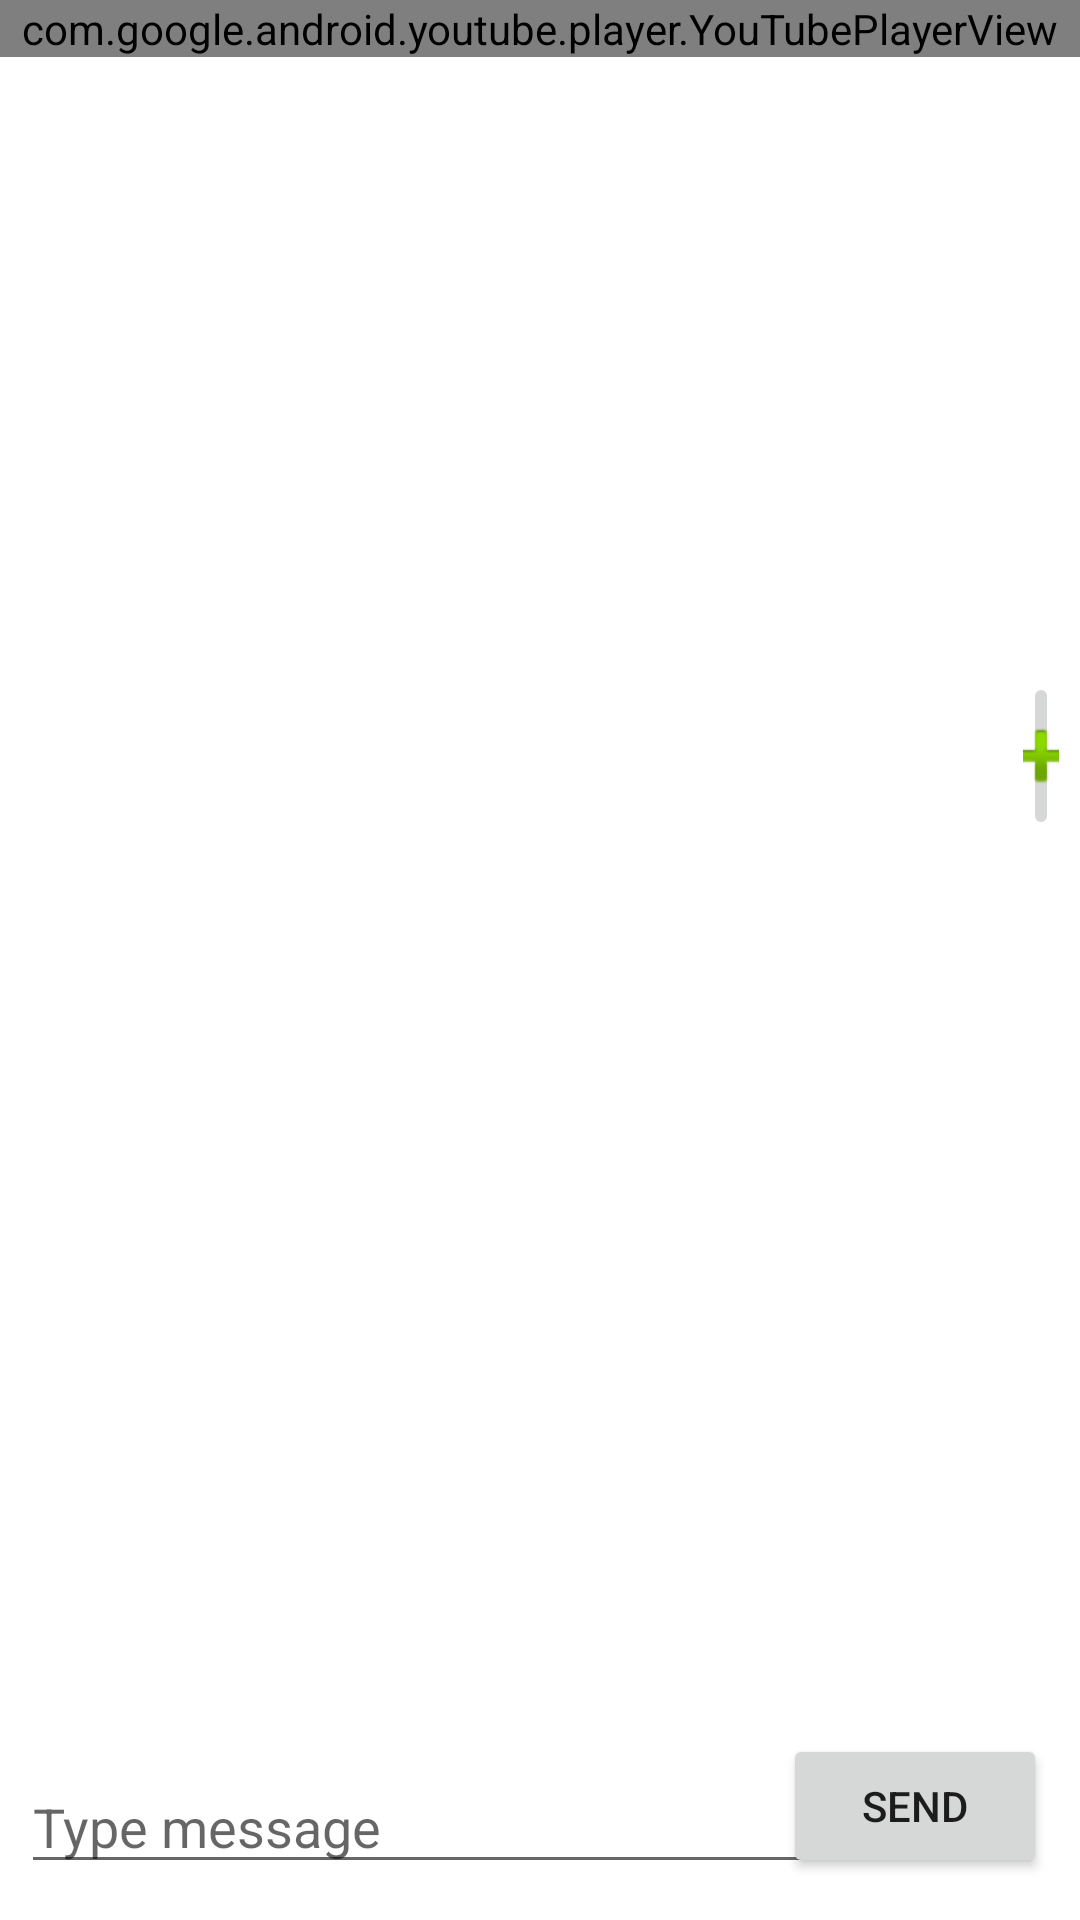

Icon bounding boxes for this 1080px×1920px phone screenshot, format (x1, y1, x2, y2):
add: (1023, 690, 1059, 822)
